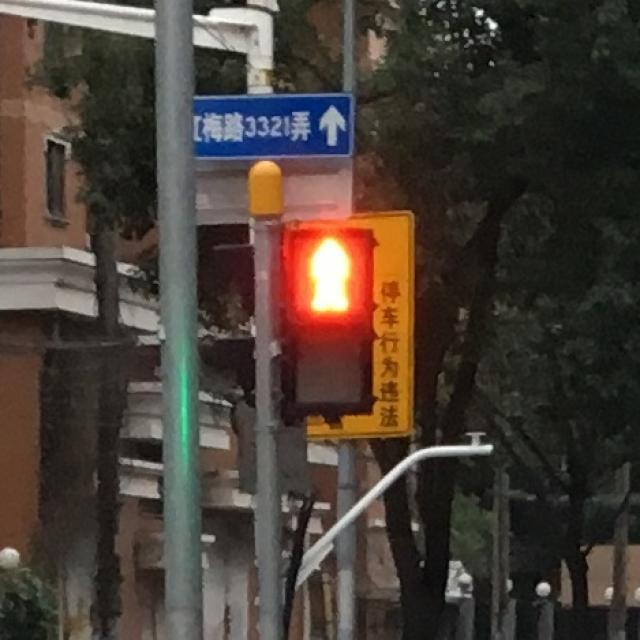red-crossing: (284, 229, 362, 328)
